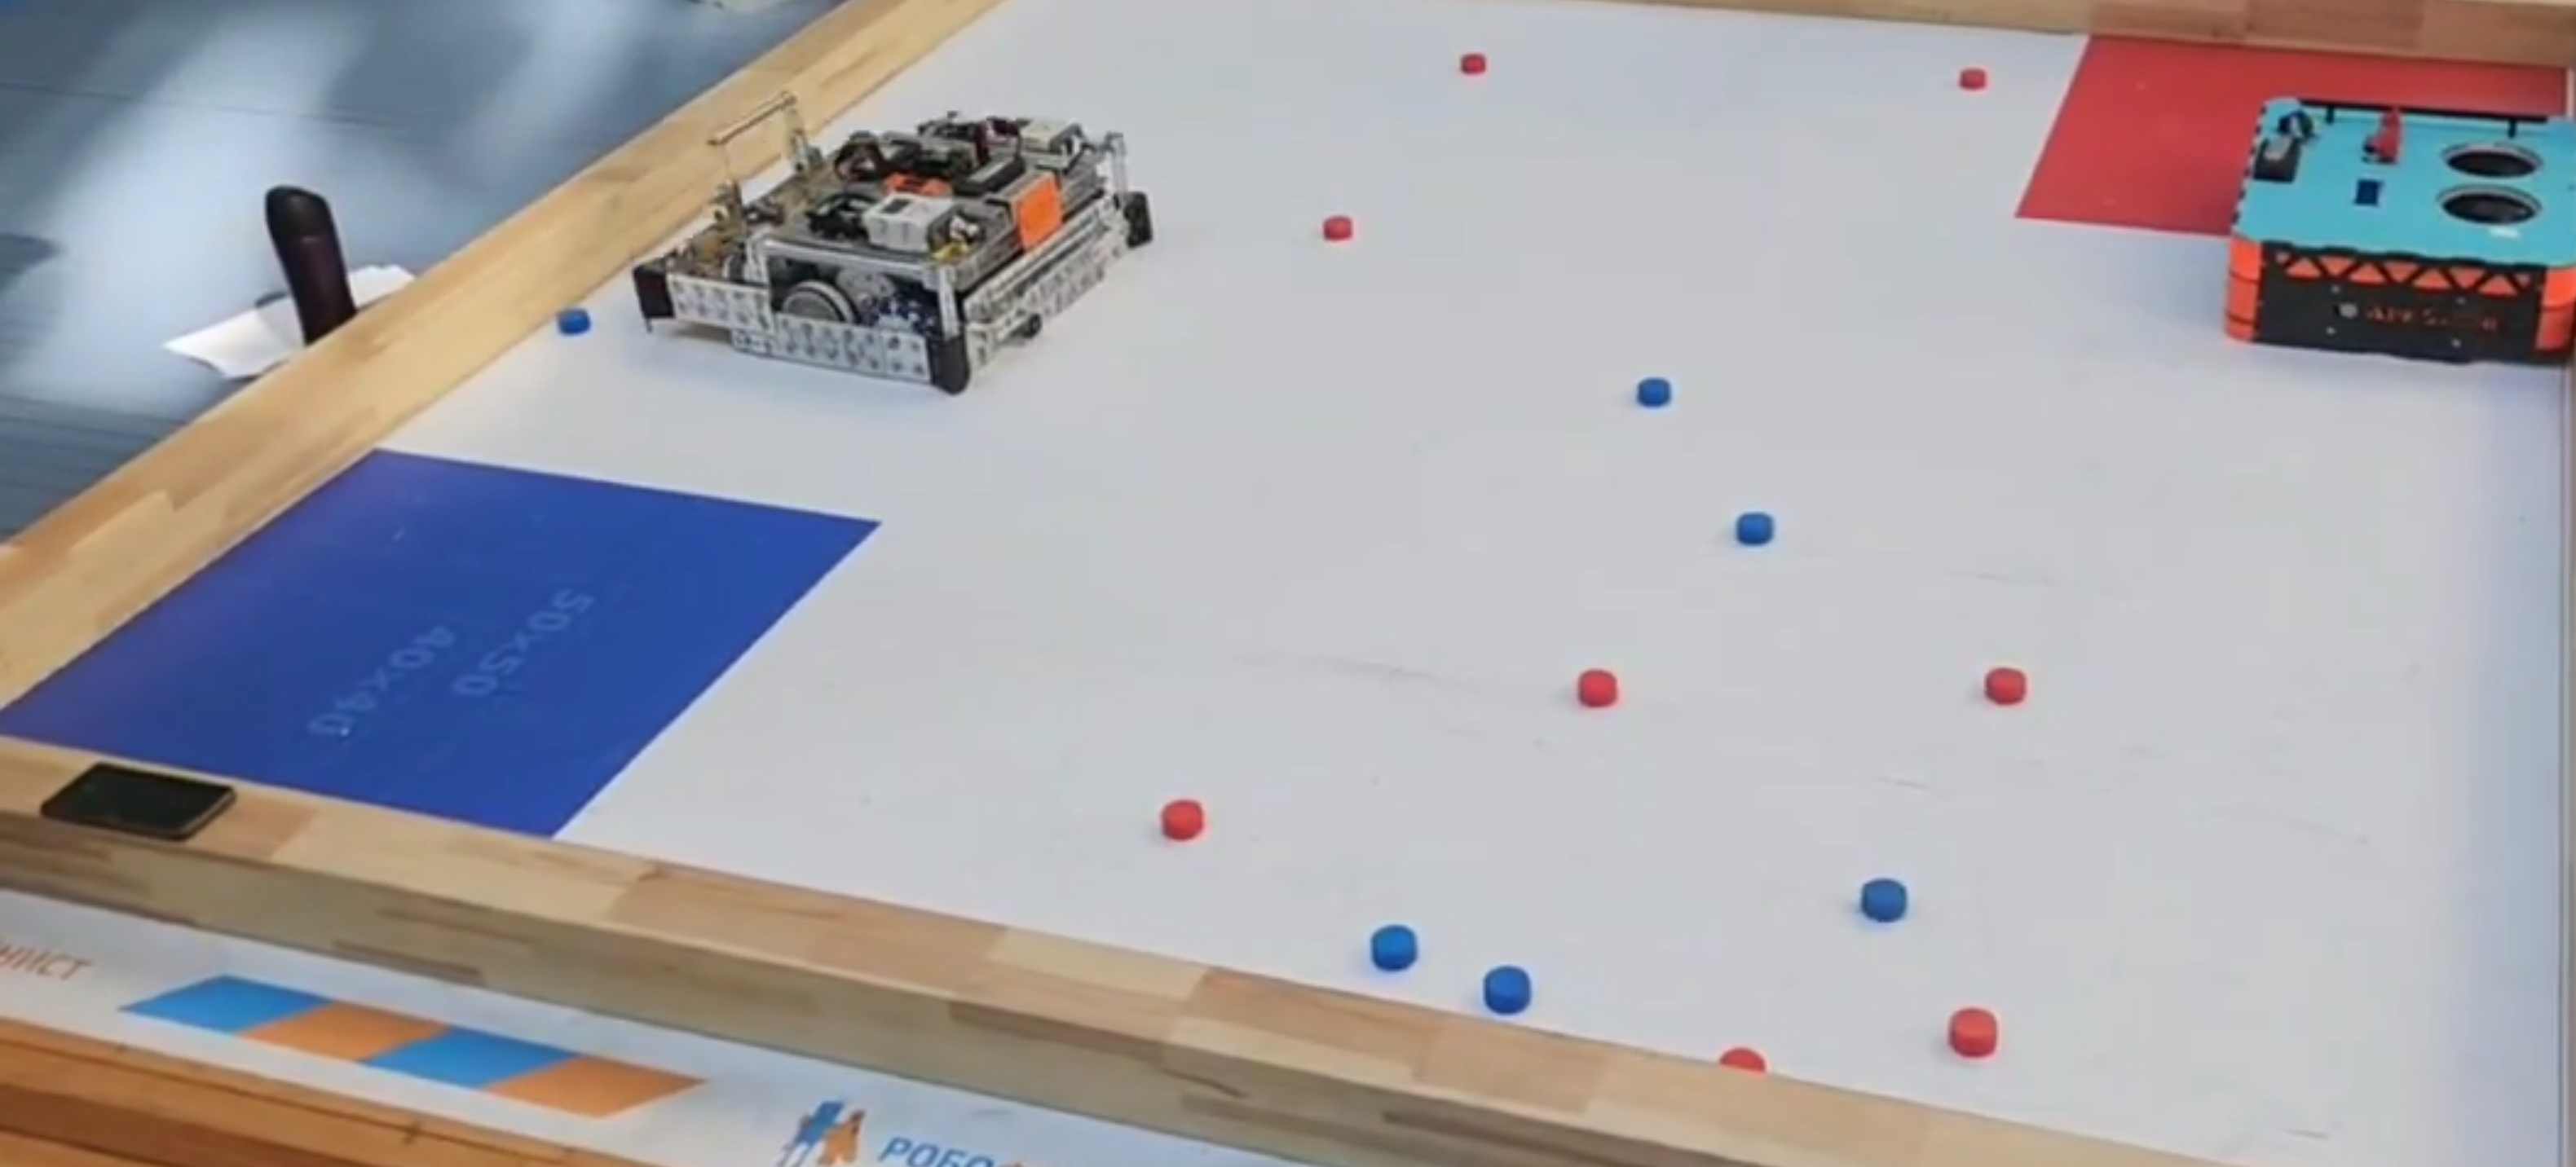blue_base: (11, 448, 881, 844)
blue_puck: (1480, 965, 1531, 1013), (1860, 875, 1911, 922), (1370, 927, 1423, 968), (1735, 510, 1778, 542), (555, 305, 590, 336), (1638, 378, 1671, 409)
red_puck: (1948, 1001, 1994, 1054), (1161, 803, 1207, 837), (1983, 666, 2027, 701), (1577, 670, 1617, 707), (1319, 215, 1357, 241), (1459, 49, 1487, 76), (1957, 67, 1985, 92)
